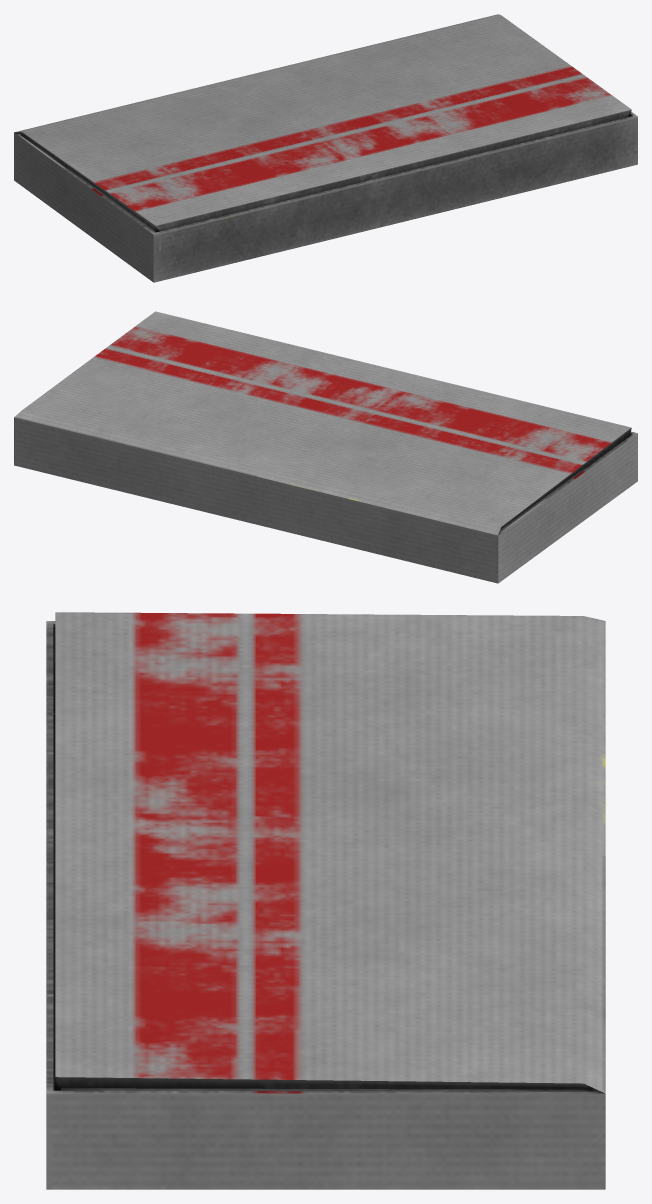
Rendered from props_3.fbx.
3 views of the same model, one above another, from view 1: azimuth 30°, elevation 25°; view 2: azimuth 150°, elevation 25°; view 3: azimuth 270°, elevation 25° (orthographic). The views are drawn at different scales.
Parts seen in each view (by area): view 1: props_3; view 2: props_3; view 3: props_3.
Part boxes in pixels (left/top/right/bottom): props_3: left=14, top=14, right=637, bottom=282; props_3: left=14, top=311, right=637, bottom=583; props_3: left=46, top=612, right=605, bottom=1189.
Bounding box in the file's own units: 20 × 2.15 × 10.
